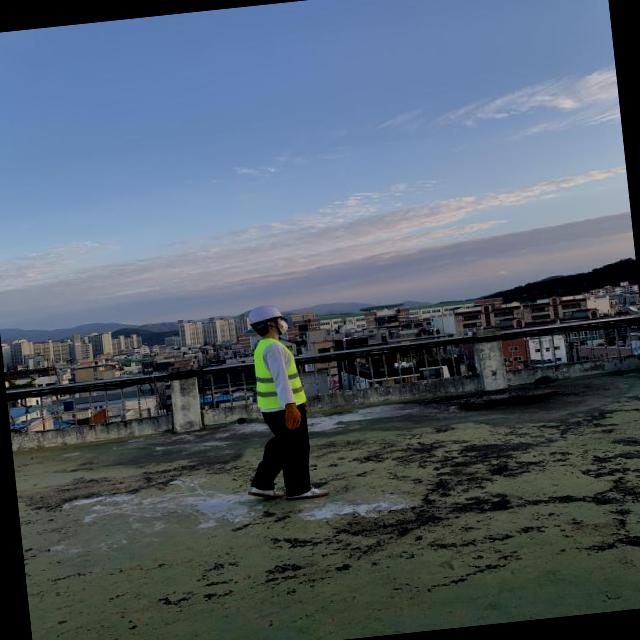boots: (284, 486, 330, 501), (246, 484, 284, 502)
helmet: (246, 302, 287, 324)
vest: (250, 335, 307, 410)
